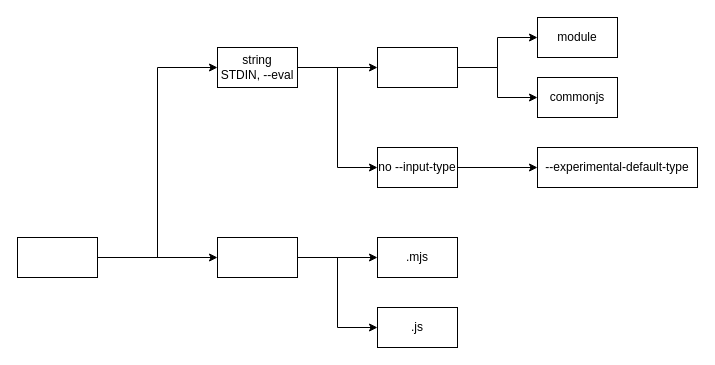
Image size: 715x365. Some labels were removed from this diagram. The centre of each missing label's shape, as x and y in pixels:
"--input-type" goes at point 417,67.
"file" goes at point 257,257.
"input" goes at point 57,257.
